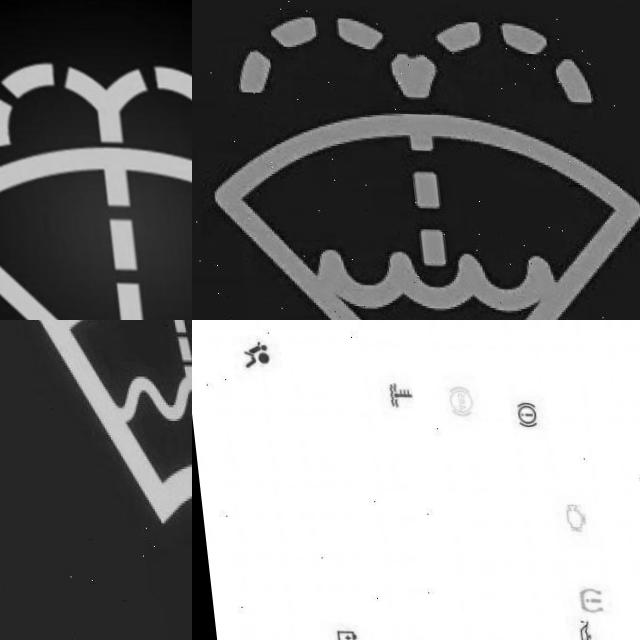Washer Fluid: (192, 8, 640, 320), (0, 54, 192, 320), (22, 320, 192, 523)
